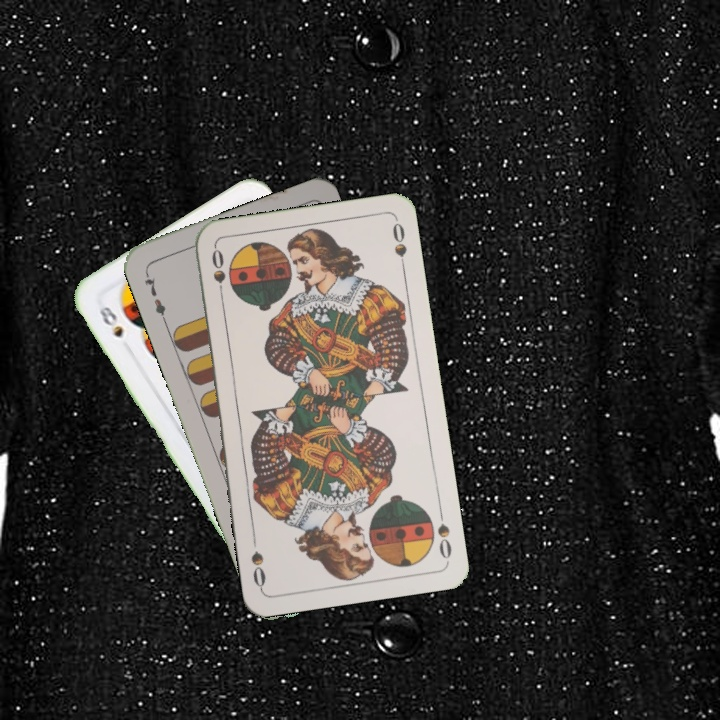E7: (140, 267, 169, 324)
S8: (95, 302, 126, 340)
SO: (207, 244, 228, 304), (433, 504, 454, 562)
